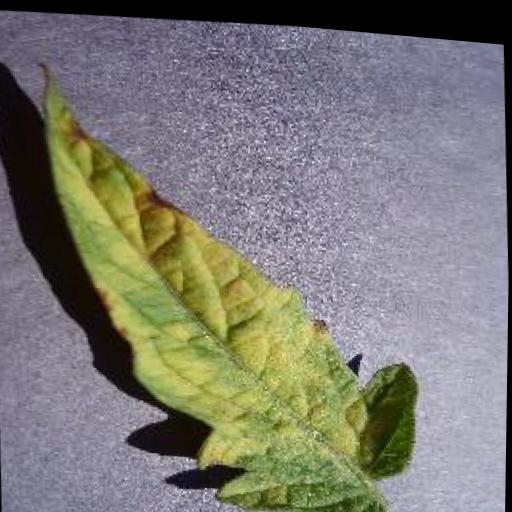Leaf Mold: (35, 54, 429, 512)
